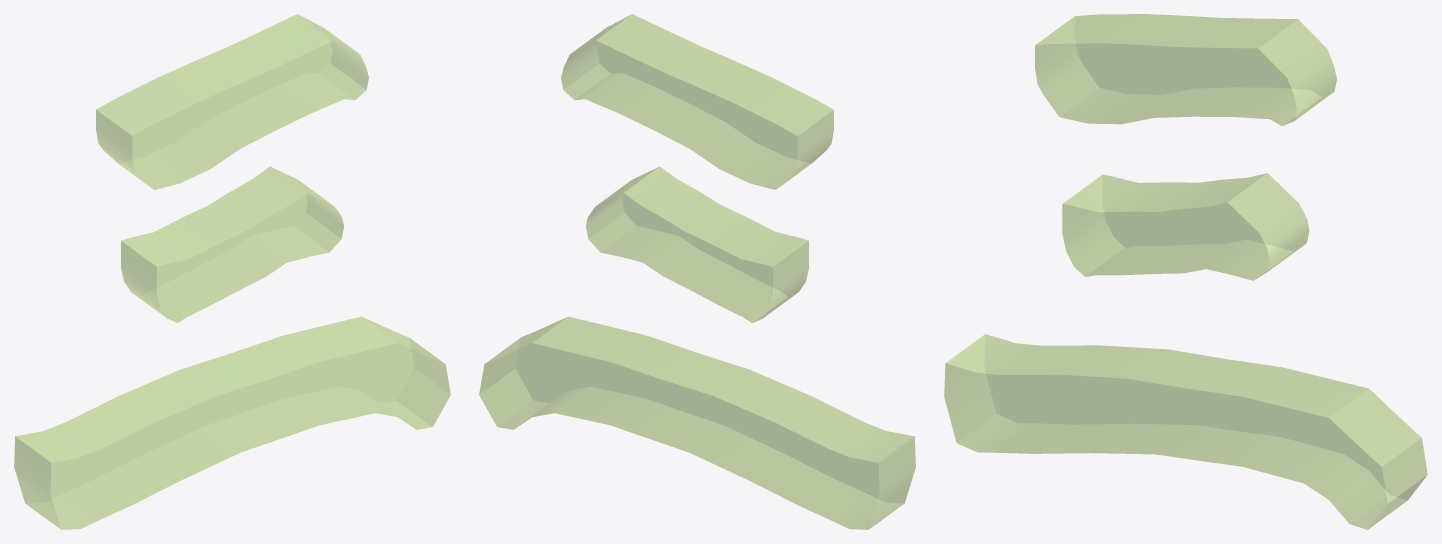
File: three_number_characters.fbx
3 views of the same model, side by side, from view 1: azimuth 30°, elevation 25°; view 2: azimuth 150°, elevation 25°; view 3: azimuth 330°, elevation 25° (orthographic). The views are drawn at different scales.
Parts seen in each view (by area): view 1: three_c, three_a, three_b; view 2: three_c, three_a, three_b; view 3: three_c, three_a, three_b.
Part boxes in pixels (<box>): three_c: <box>14,316,450,529</box>; three_a: <box>96,14,368,189</box>; three_b: <box>121,166,343,322</box>; three_c: <box>479,316,915,529</box>; three_a: <box>561,14,833,189</box>; three_b: <box>586,166,808,322</box>; three_c: <box>944,334,1427,529</box>; three_a: <box>1035,14,1336,125</box>; three_b: <box>1062,173,1309,280</box>.
Size of the model in its own units: 0.8448 by 0.8602 by 0.1323.
